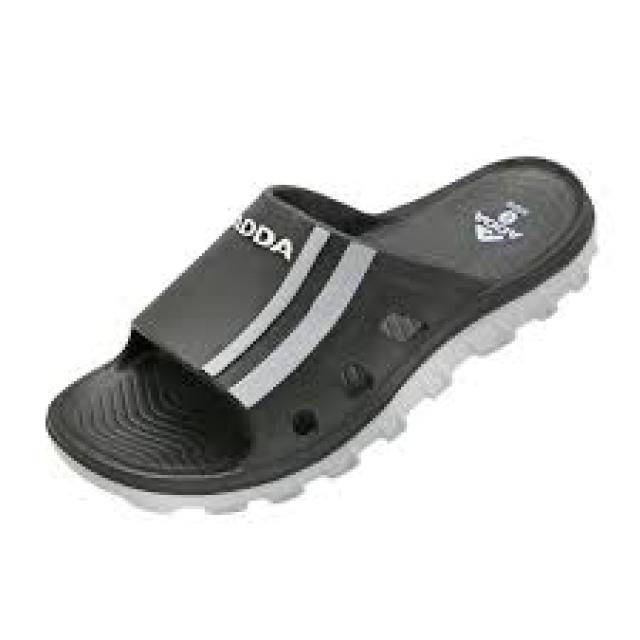shoe: (38, 154, 596, 515)
